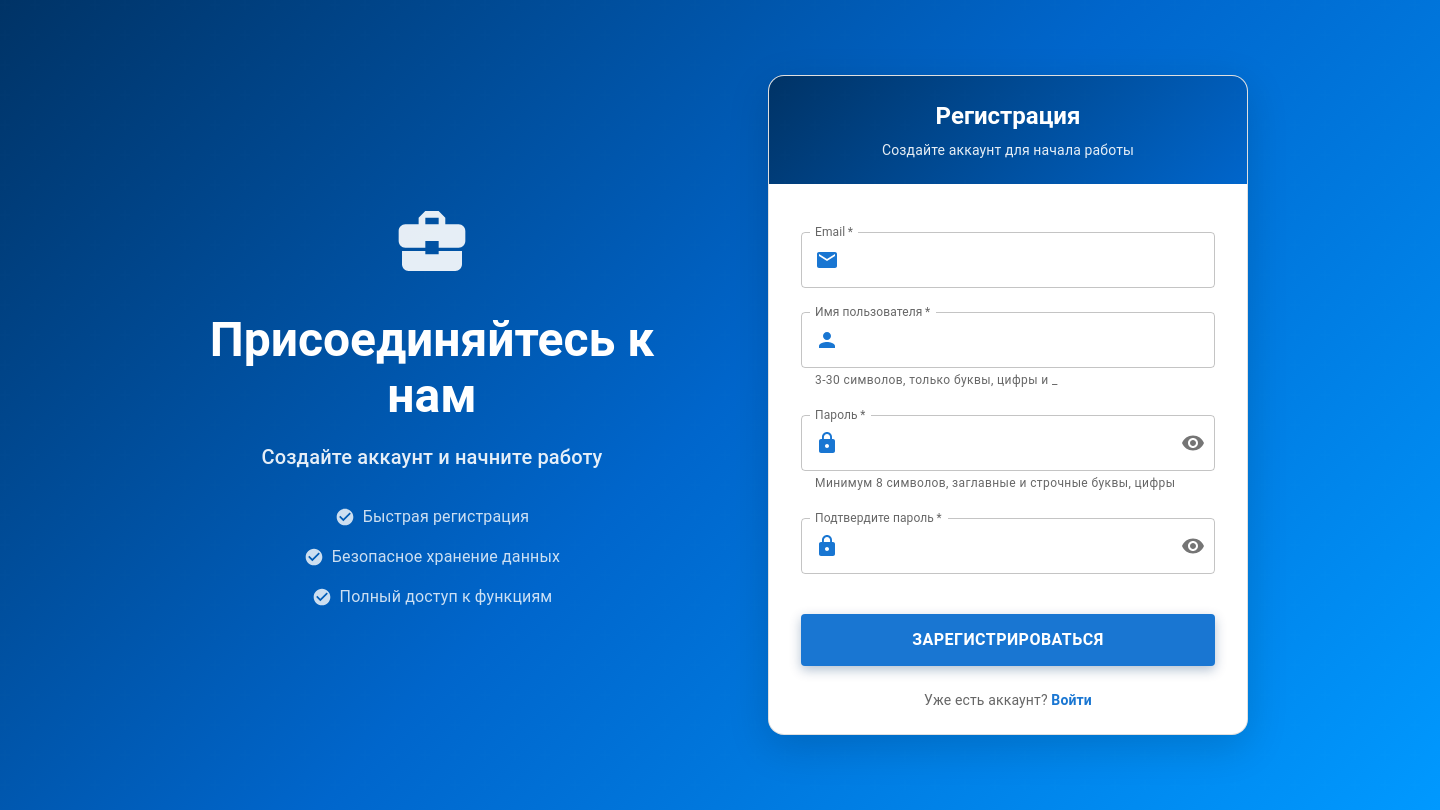
Test: RegisterPage › validates username field
Type "ab" into the field labelled "Имя пользователя *".
click(1031, 340); type("ab")  # box 847,312 -> 1215,368
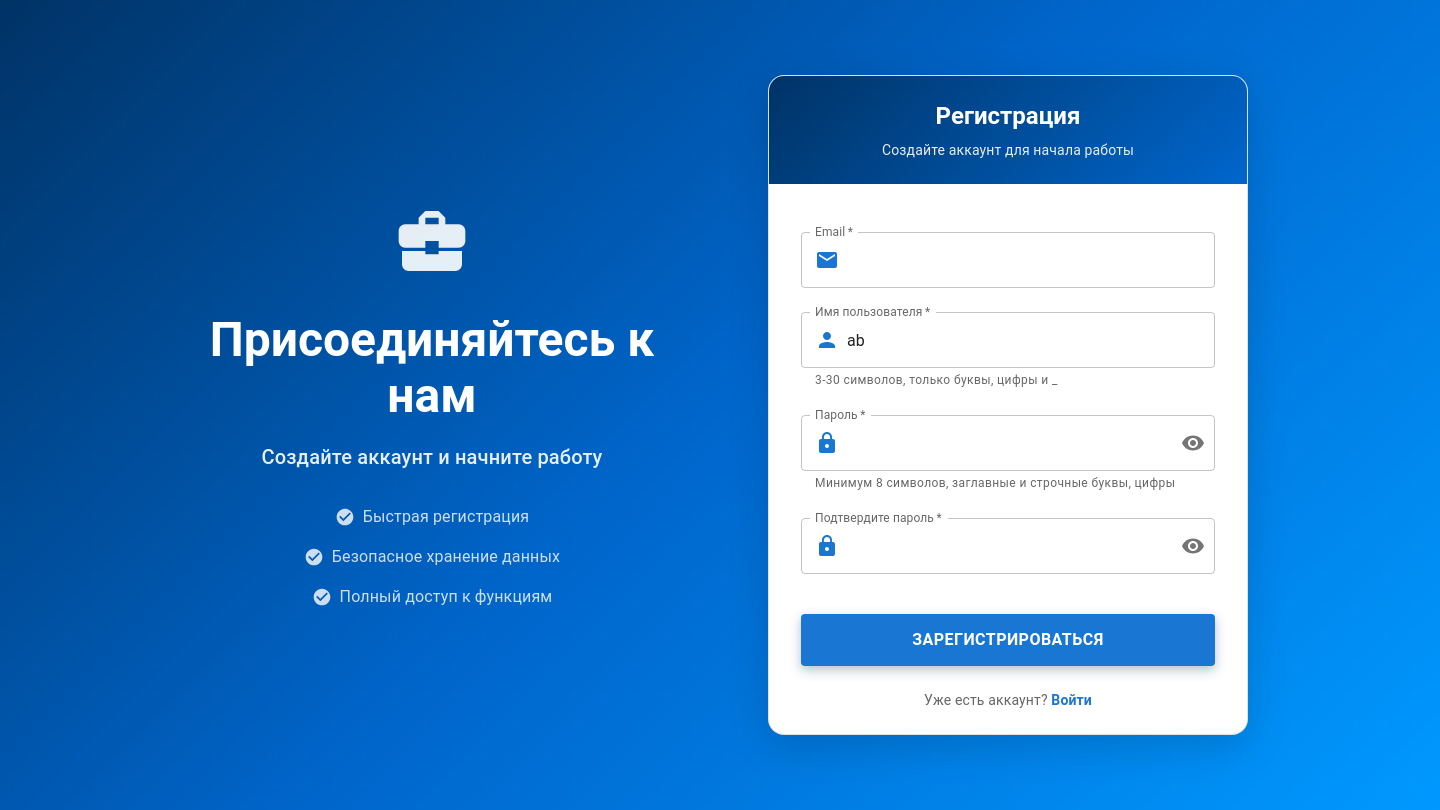
Leave the field labelled "Имя пользователя *", box 847,312 -> 1215,368
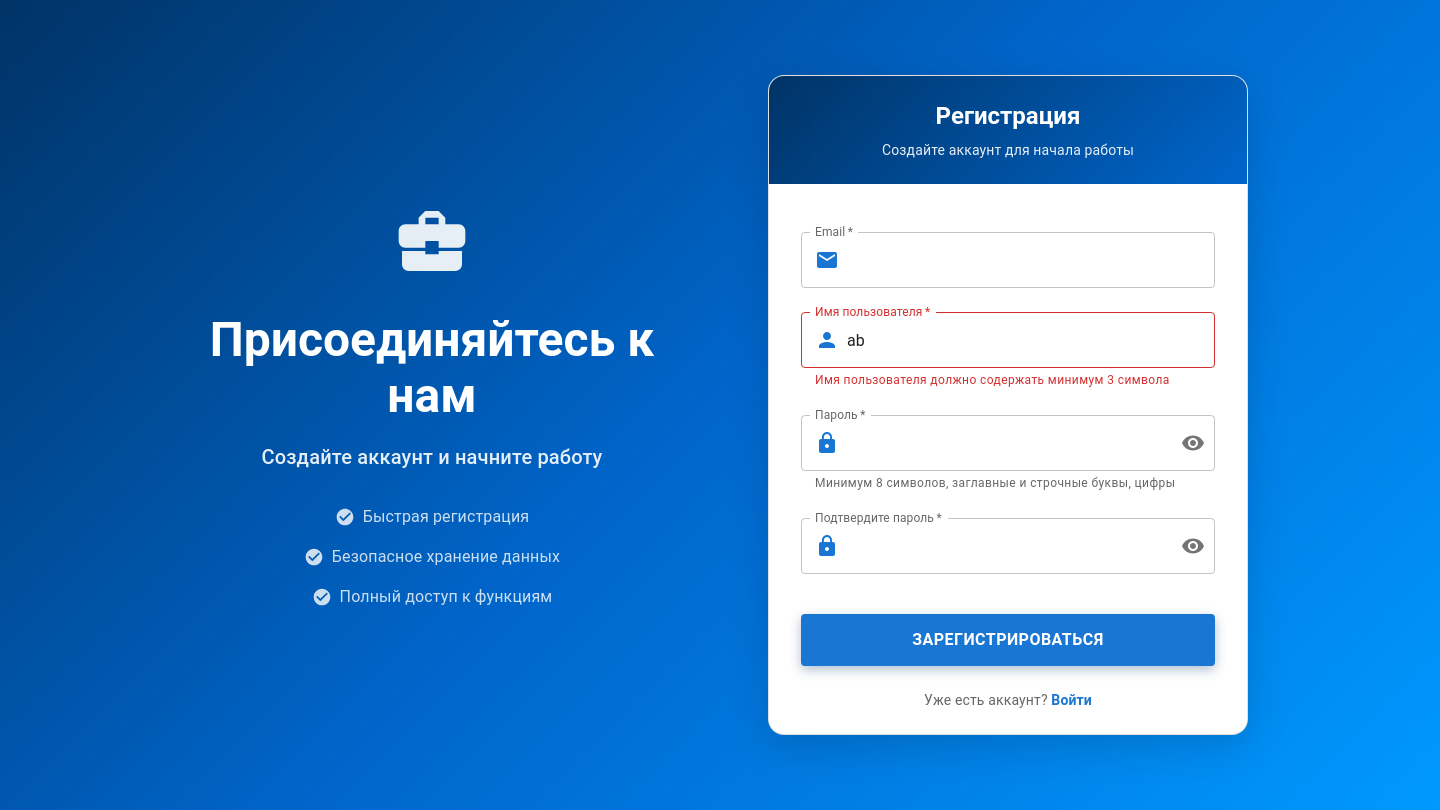
Now the text "Имя пользователя должно содержать минимум 3 символа" is shown, box 815,371 -> 1201,391
